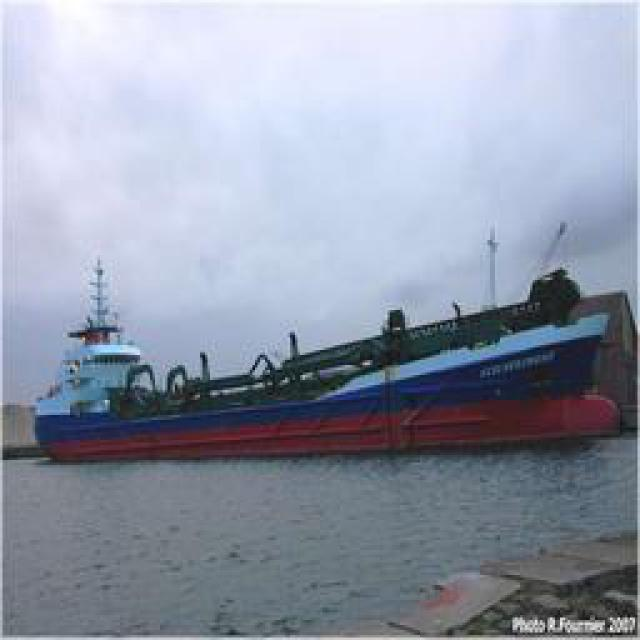Ship: (18, 284, 626, 469)
